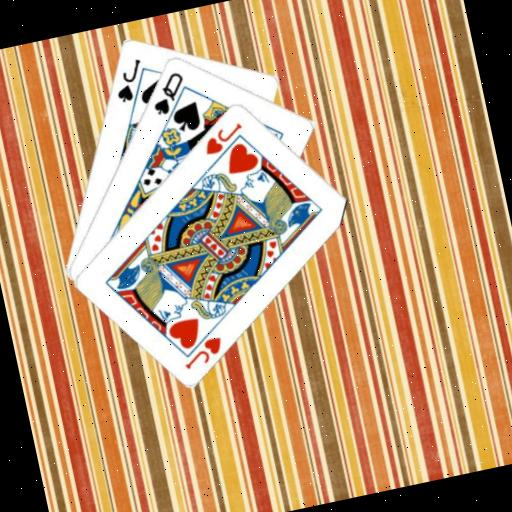JH: (176, 332, 227, 372), (198, 118, 248, 157)
JS: (106, 54, 150, 105)
QS: (144, 67, 191, 118)
